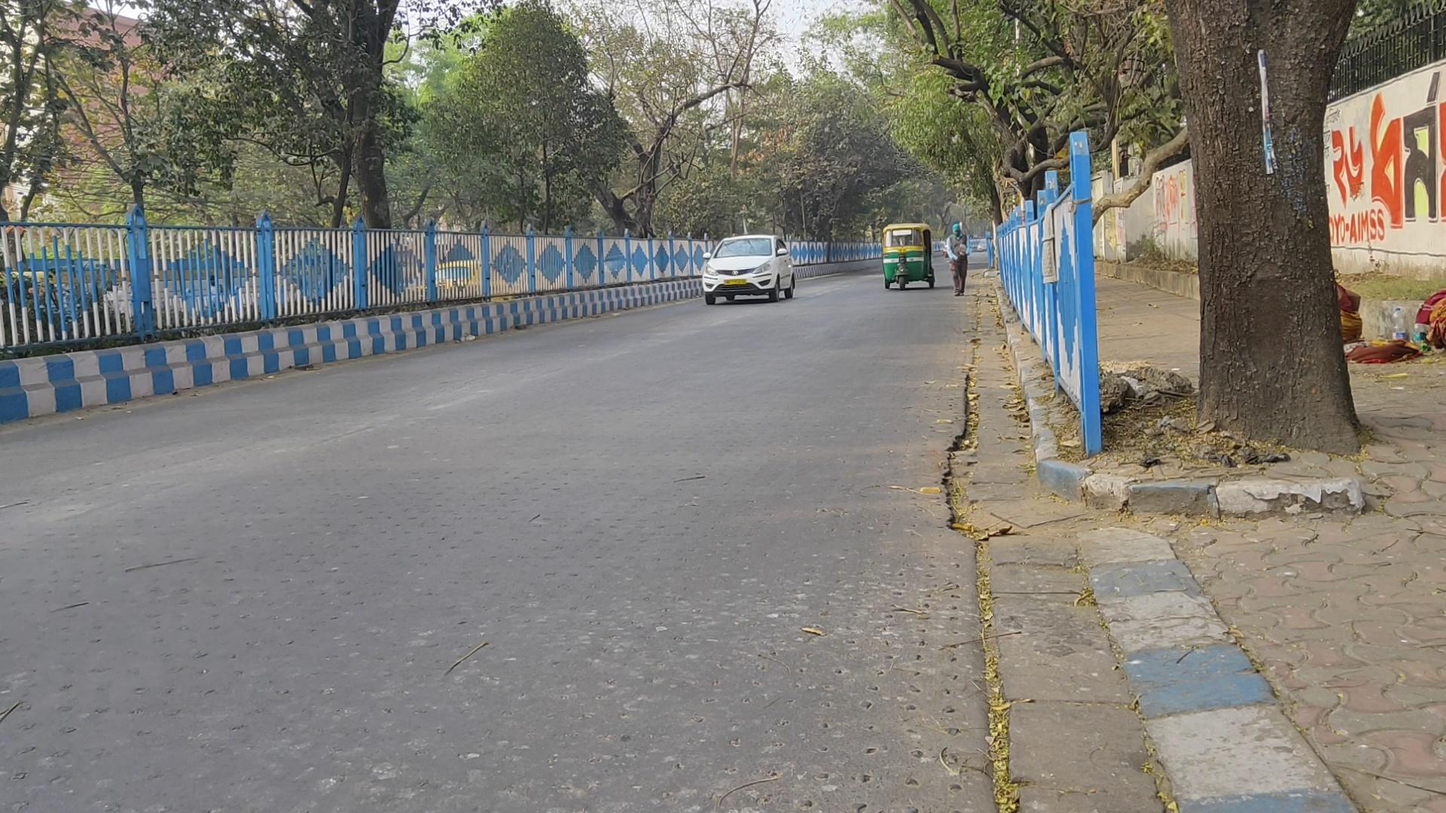Auto: (880, 222, 937, 291)
car: (703, 233, 797, 305)
